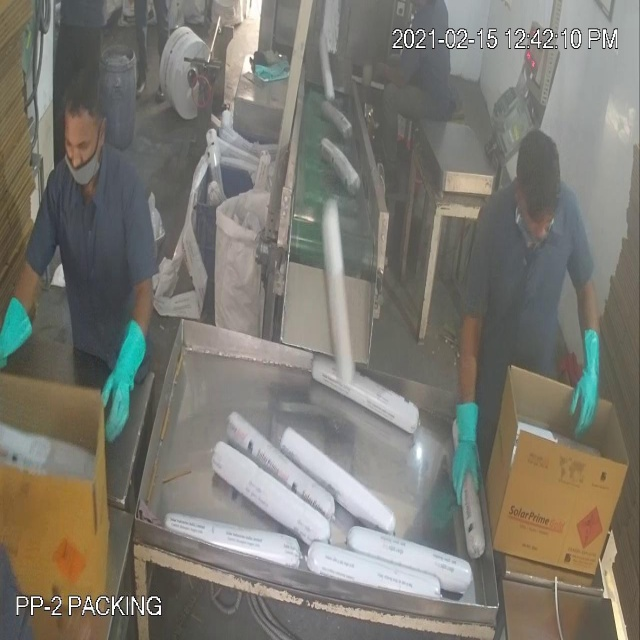Guantes: (89, 323, 150, 450), (561, 316, 609, 448), (451, 398, 490, 510)
